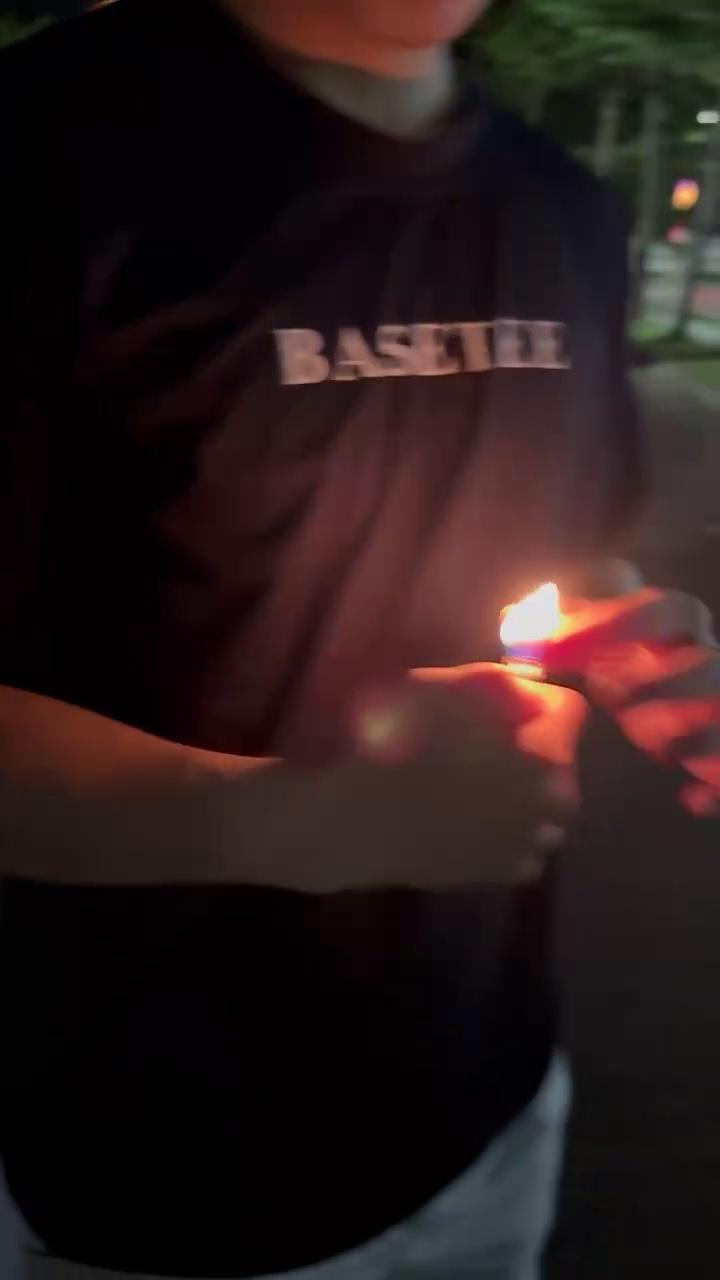Fire: (492, 570, 598, 662)
